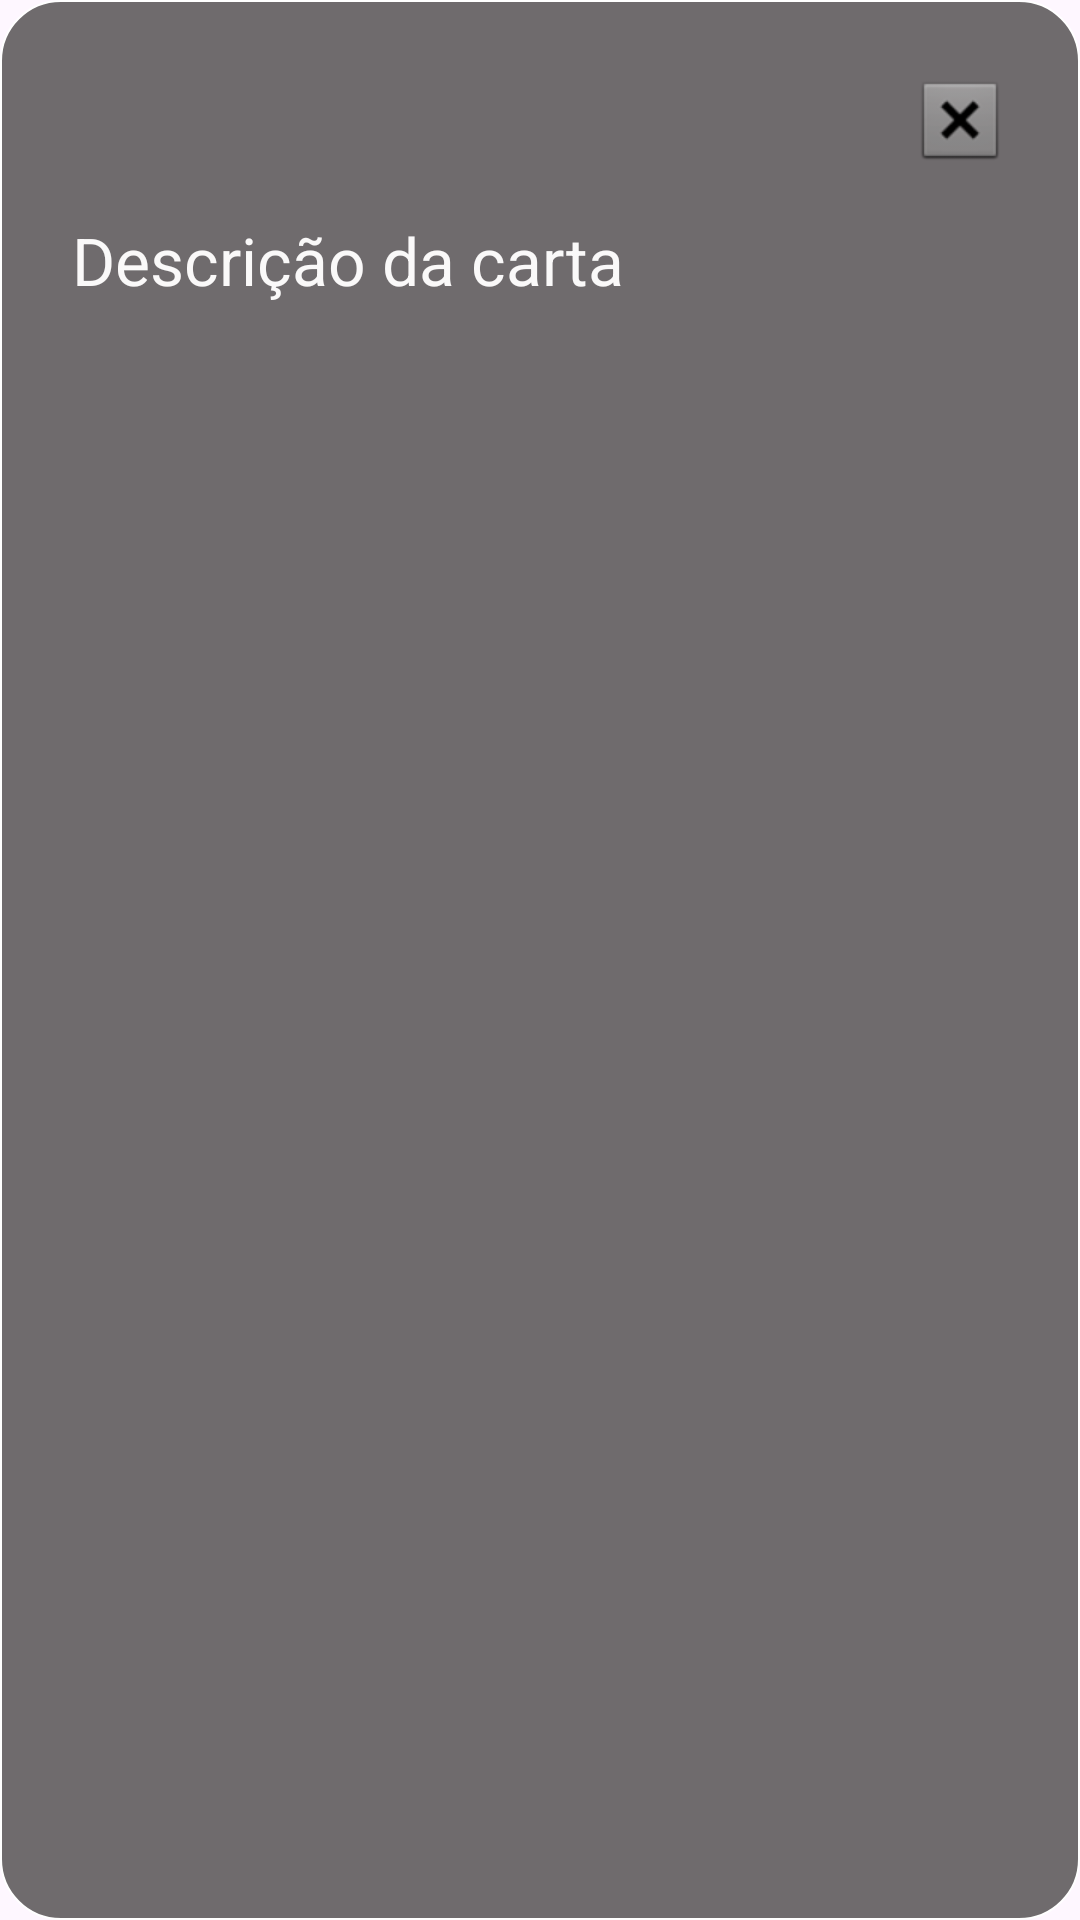

Screen size 1080x1920. Icon name, then its center in pixels as (x,y):
Fechar: (960,121)
